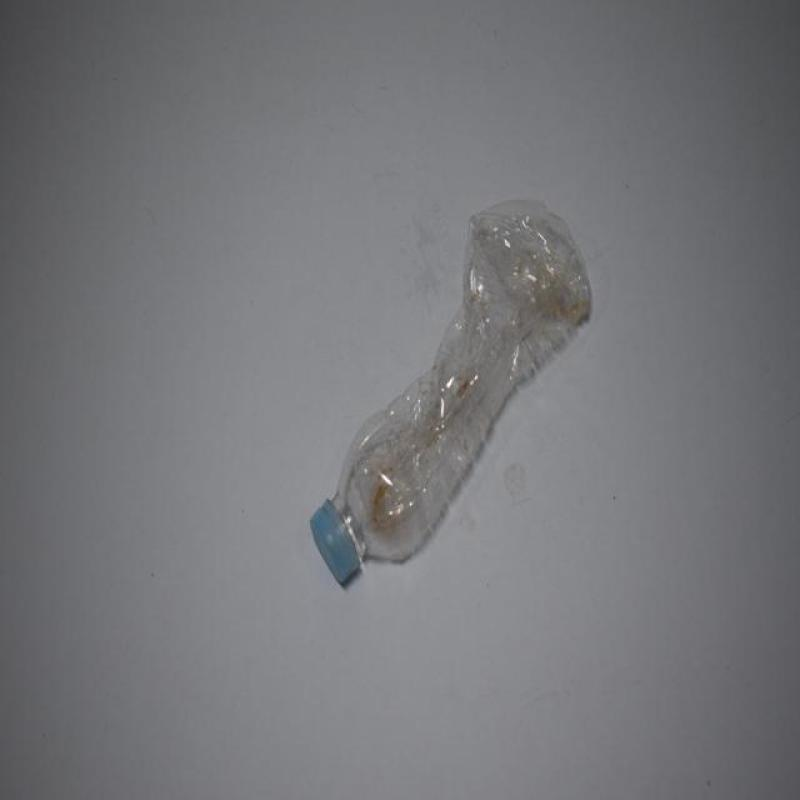botella: (308, 198, 596, 588)
